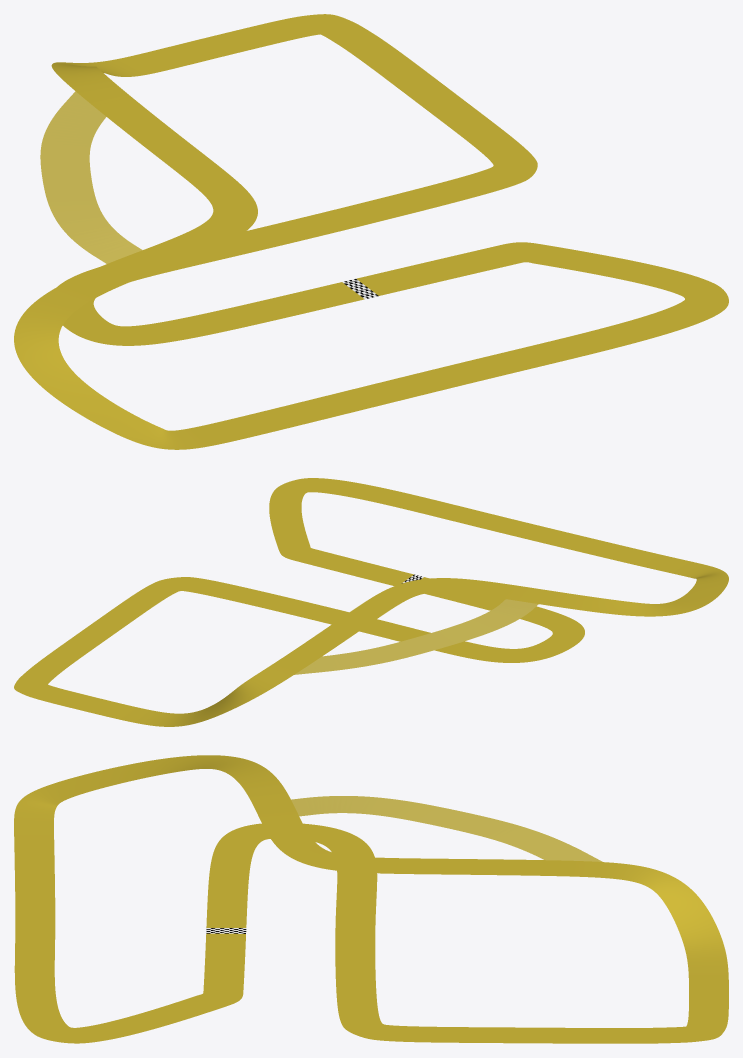
Rendered from MotherboardTrack.glb.
3 renders of one model, top to bottom at view 1: azimuth 30°, elevation 25°; view 2: azimuth 150°, elevation 25°; view 3: azimuth 270°, elevation 25°, orthographic. The views are drawn at different scales.
Parts seen in each view (by area): view 1: track plane.001, Plane.004; view 2: track plane.001, Plane.004; view 3: track plane.001, Plane.004.
Boxes of the visible parts, x1,y1,x2,y2 form: track plane.001: (14, 14, 728, 449); Plane.004: (40, 91, 142, 263); track plane.001: (14, 478, 728, 726); Plane.004: (294, 599, 538, 674); track plane.001: (14, 755, 728, 1043); Plane.004: (291, 796, 602, 861).
Bounding box in the file's own units: 190 × 15.16 × 217.
Materials: 3 (1 with a texture image).
